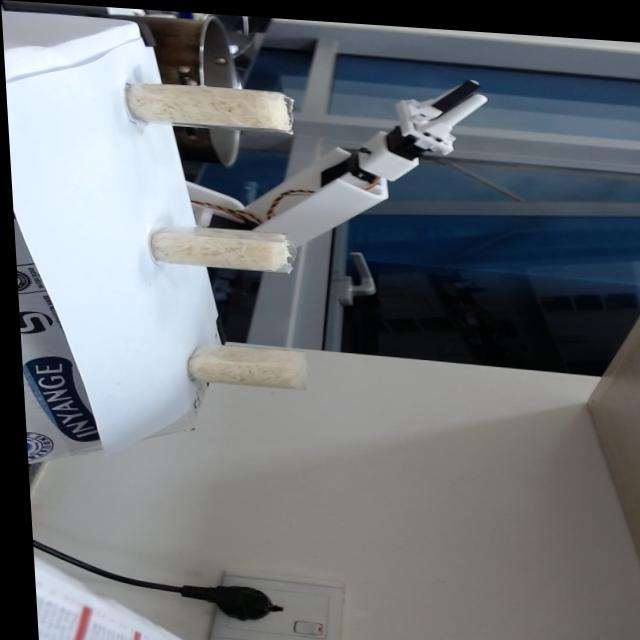raw_rice: (119, 82, 279, 127), (179, 340, 301, 387), (147, 224, 277, 267)
